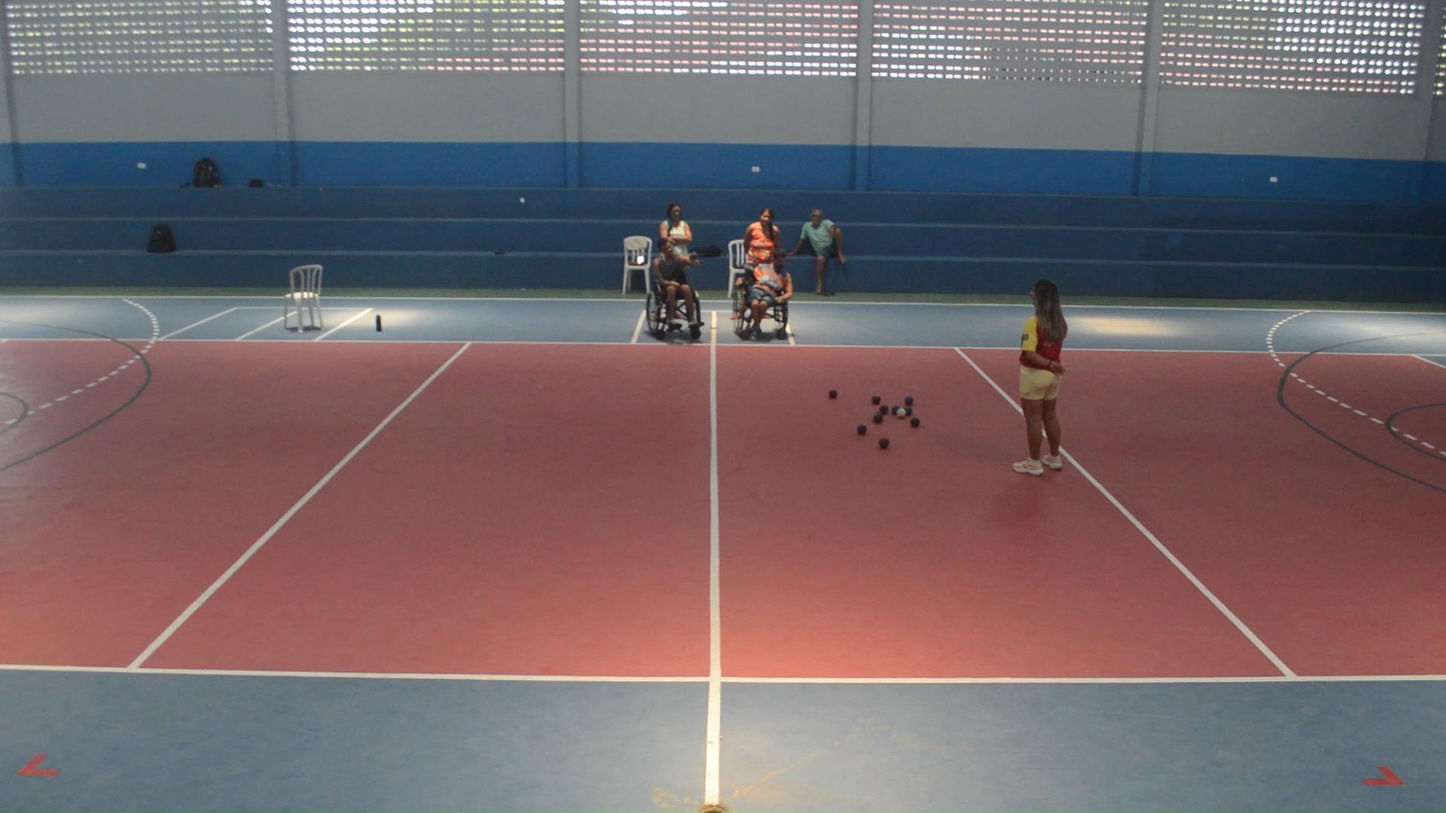blue_ball: (858, 424, 867, 434), (910, 418, 920, 427), (905, 396, 913, 405), (905, 407, 913, 415), (891, 406, 899, 413)
red_ball: (880, 438, 889, 448), (874, 413, 882, 423), (872, 395, 880, 403), (829, 390, 837, 397), (880, 406, 888, 413)
white_ball: (898, 409, 905, 417)
